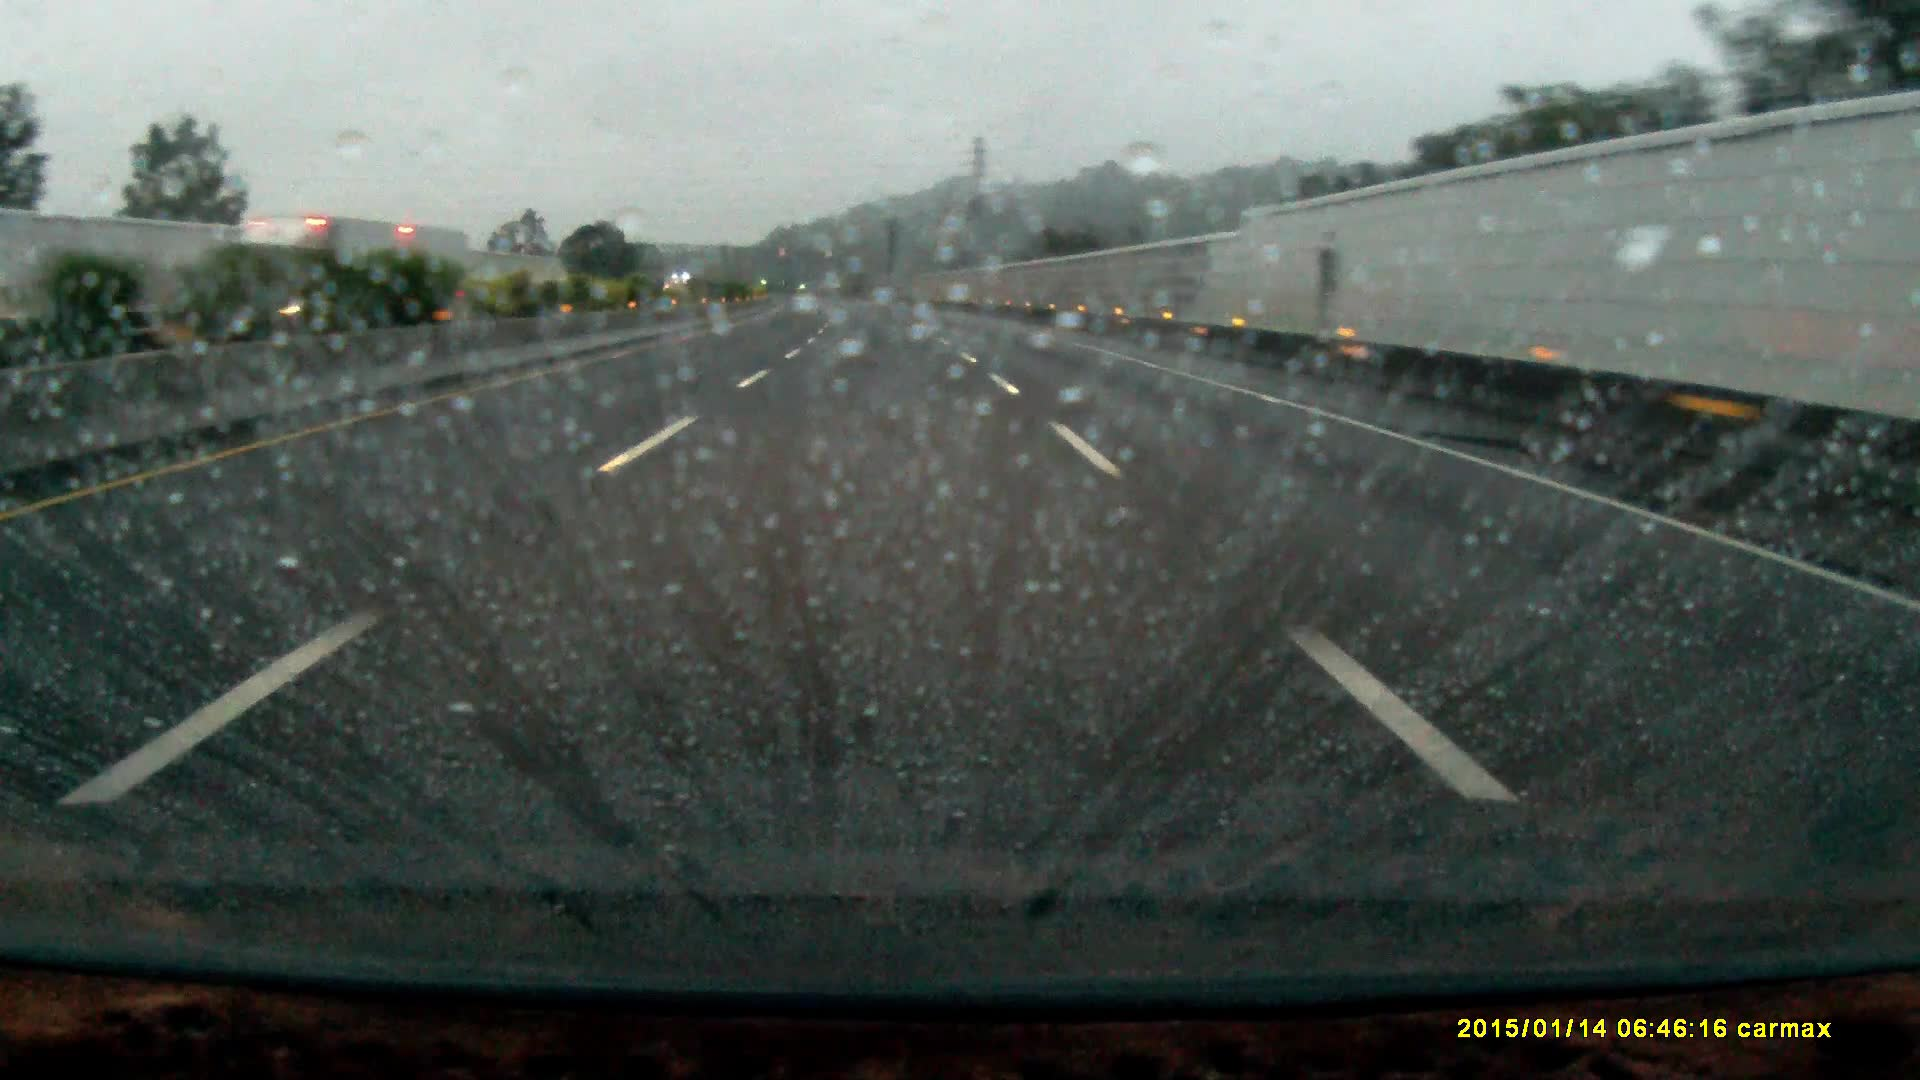vehicle: (214, 220, 479, 330)
